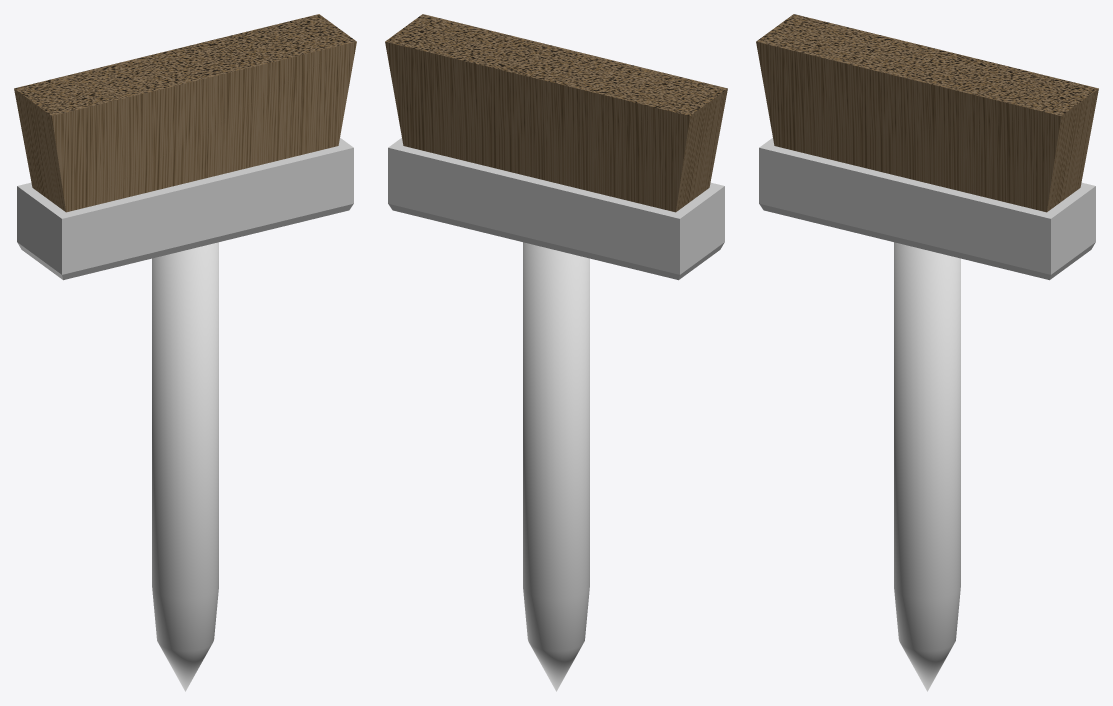
Rendered from CleaningBrush.fbx.
The picture shows the model from 3 angles, left to right: view 1: azimuth 30°, elevation 25°; view 2: azimuth 150°, elevation 25°; view 3: azimuth 330°, elevation 25°; orthographic projection.
Parts seen in each view (by area): view 1: Head, Handle; view 2: Head, Handle; view 3: Head, Handle.
Part boxes in pixels (x1,y1,x2,y2): Head: (14,14,356,280); Handle: (152,242,218,691); Head: (385,14,727,280); Handle: (523,242,589,691); Head: (756,14,1098,280); Handle: (894,242,960,691).
Bounding box in the file's own units: 157 × 308 × 40.
